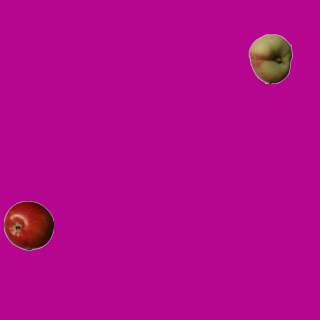Apple Braeburn: (3, 200, 53, 250)
Peach Flat: (245, 33, 295, 83)
